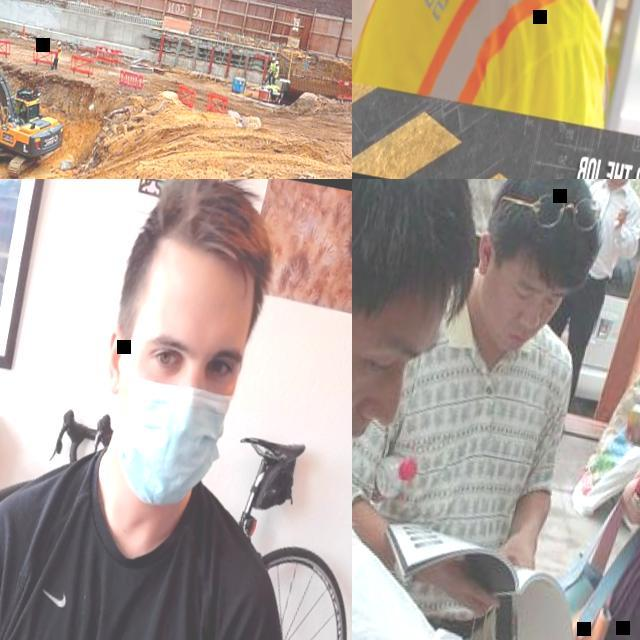helmet: (276, 60, 280, 66), (58, 41, 62, 45), (272, 58, 276, 62)
vest: (352, 0, 640, 132), (54, 46, 62, 61), (272, 66, 280, 80), (269, 64, 275, 72)
